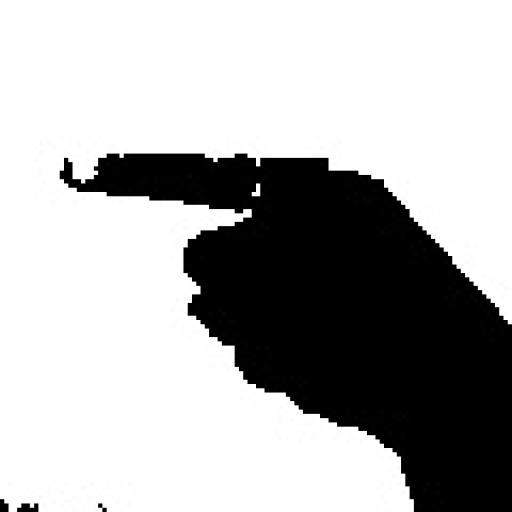index_left: (59, 149, 512, 386)
